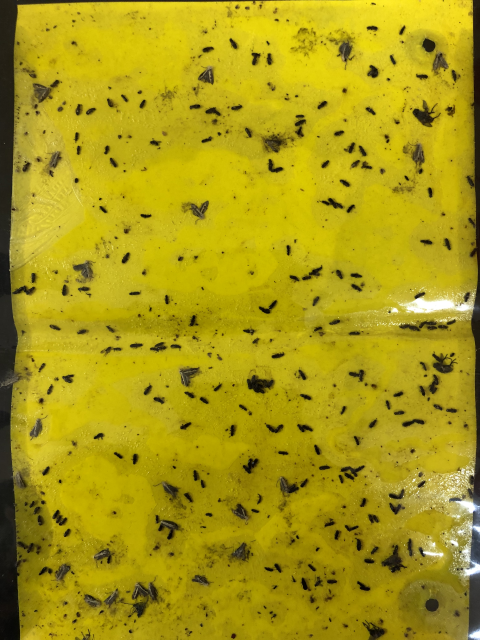DBM: (70, 259, 99, 283), (336, 39, 356, 73), (151, 479, 183, 500), (188, 199, 211, 227), (28, 414, 50, 441), (100, 586, 121, 614), (195, 62, 218, 87), (229, 500, 251, 525), (177, 366, 203, 387), (230, 538, 250, 565), (406, 142, 426, 168), (145, 575, 162, 604), (31, 82, 52, 105), (128, 580, 151, 601), (92, 546, 113, 568), (189, 571, 215, 588), (51, 562, 71, 584), (431, 52, 450, 74), (81, 592, 103, 610), (1, 371, 23, 389), (44, 149, 63, 169), (273, 475, 290, 497), (14, 469, 30, 490), (158, 517, 180, 532)
